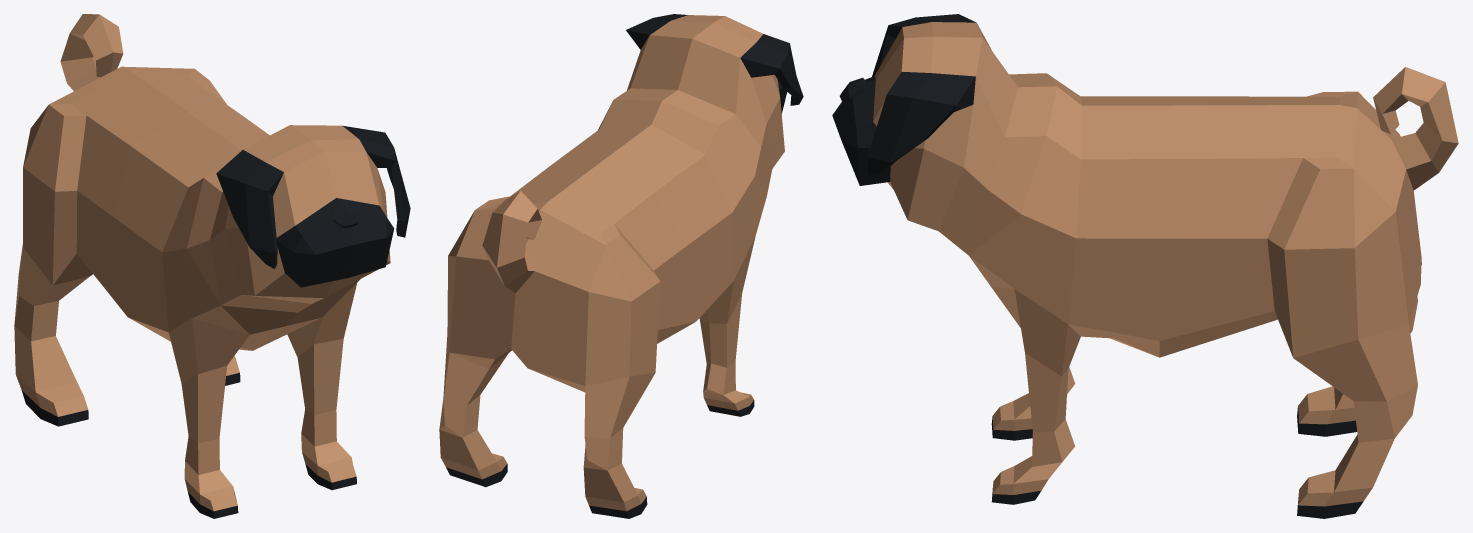
File: cc0-pug-lod0.glb
3 renders of one model, left to right at view 1: azimuth 30°, elevation 25°; view 2: azimuth 150°, elevation 25°; view 3: azimuth 270°, elevation 25°, orthographic. The views are drawn at different scales.
Visible parts, largest first — view 1: part_0; view 2: part_0; view 3: part_0.
Part boxes in pixels (<box>): part_0: <box>14,14,410,518</box>; part_0: <box>439,14,803,518</box>; part_0: <box>832,14,1458,518</box>.
Bounding box in the file's own units: 1.45 × 2.65 × 3.5.
